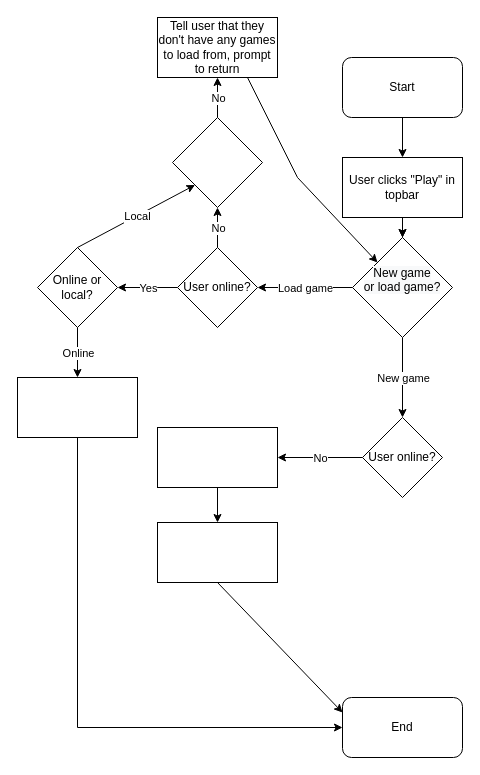
This 480x775 diagram has some shape labels left out. The centre of each missing label's shape, as x and y in pixels:
"Game is created and entered" goes at (217,552).
"Obtain game code for user, enter game" goes at (77,407).
"User has any saved games?" goes at (217,162).
"User provides parameters for game (time, etc.)" goes at (217,457).
